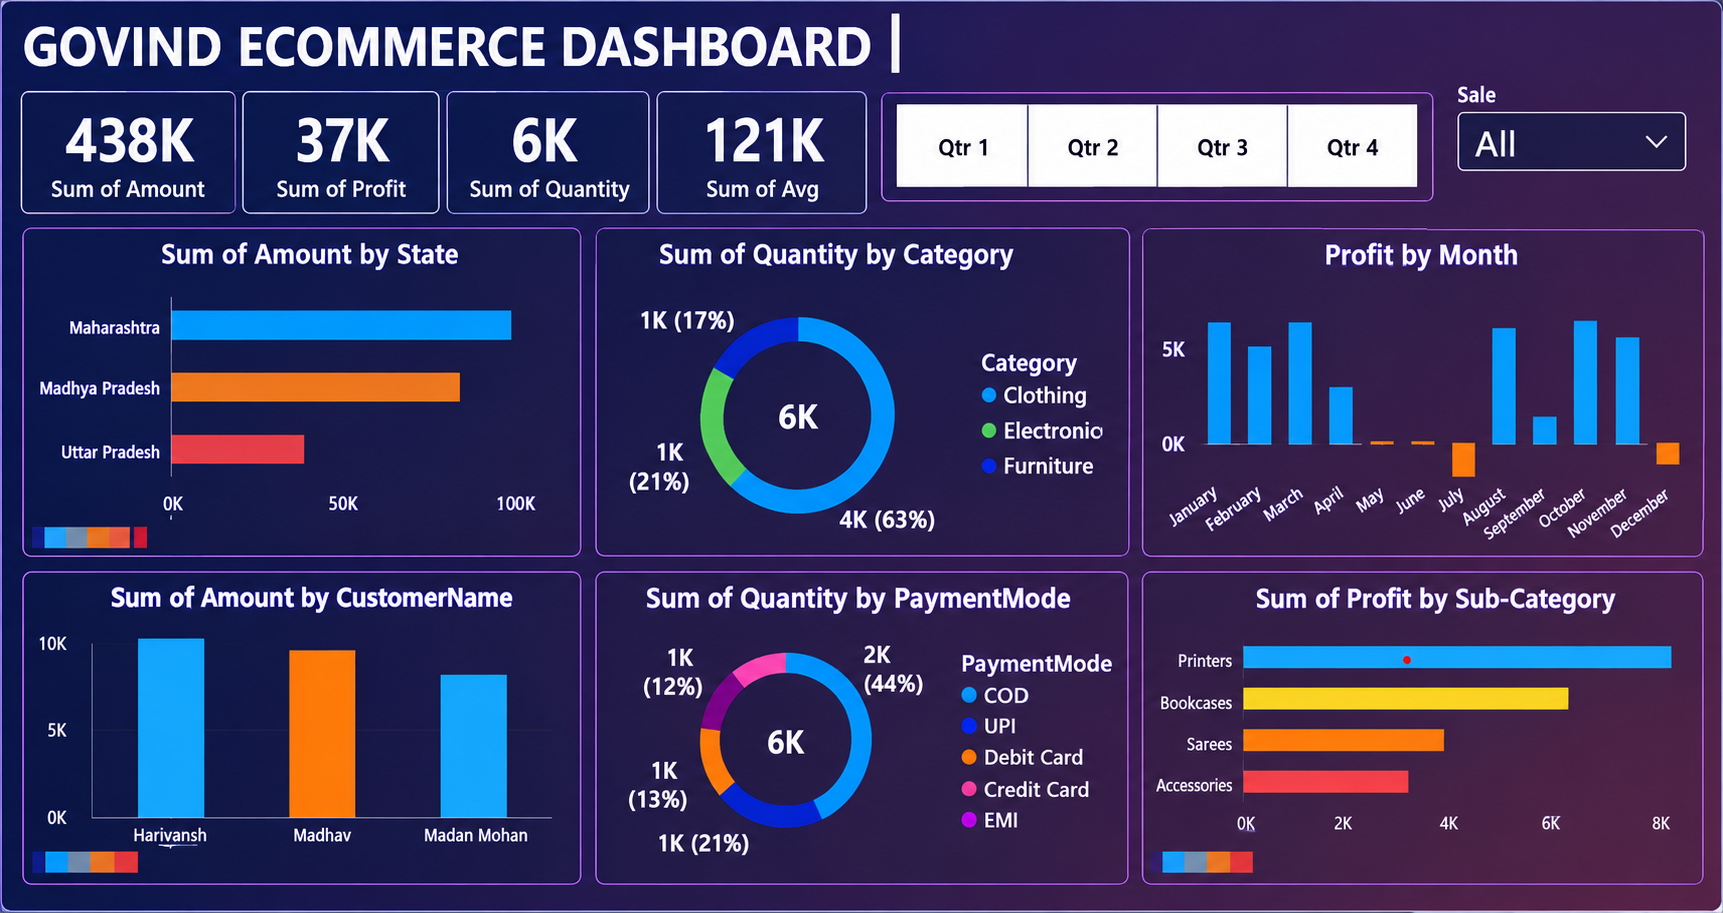

Layout of this report page (visuals, bound fields, positions):
{"tool":"powerbi","page":{"name":"Page 1","canvas":[1920,1080],"ordinal":0},"visuals":[{"type":"clusteredColumnChart","title":"Profit by Month","fields":{"Category":["order.Order Date.Variation.Date Hierarchy.Month"],"Y":["Sum(Details.Profit)"]},"box":[1270,280,640,380],"z":0},{"type":"barChart","fields":{"Category":["Details.Sub-Category"],"Y":["Sum(Details.Profit)"]},"box":[1270,680,640,337.8],"z":1000},{"type":"donutChart","fields":{"Category":["Details.Category"],"Y":["Sum(Details.Quantity)"]},"box":[657.5,280,602.2,380],"z":2000},{"type":"donutChart","fields":{"Category":["Details.PaymentMode","Details.Category"],"Y":["Sum(Details.Quantity)"]},"box":[655,680,602.2,337.8],"z":3000},{"type":"cardVisual","fields":{"Data":["Sum(Details.Amount)"]},"box":[27.5,132.5,222.5,142.5],"z":4000},{"type":"cardVisual","fields":{"Data":["Sum(Details.Profit)"]},"box":[250,132.5,222.5,142.5],"z":5000},{"type":"cardVisual","fields":{"Data":["Sum(Details.Quantity)"]},"box":[472.5,132.5,232.5,142.5],"z":6000},{"type":"cardVisual","fields":{"Data":["Sum(Details.Avg)"]},"box":[710,132.5,250,142.5],"z":7000},{"type":"textbox","box":[27.5,45,932.5,70],"z":8000},{"type":"clusteredBarChart","fields":{"Category":["order.State"],"Y":["Sum(Details.Amount)"]},"box":[27.5,280,605,380],"z":9000},{"type":"slicer","fields":{"Values":["order.Order Date.Variation.Date Hierarchy.Quarter"]},"box":[977.5,132.5,630,120],"z":10000},{"type":"slicer","fields":{"Values":["order.State"]},"box":[1642.5,132.5,235,120],"z":11000},{"type":"clusteredColumnChart","fields":{"Category":["order.CustomerName"],"Y":["Sum(Details.Amount)"]},"box":[28,680,605,338],"z":12000}]}

Visuals, with their boxes on the page's 1920x1080 design canvas (x1, y1, x2, y2). These are canvas units, not pixel positions in the 1723x913 screenshot, which may show the page scaled, cropped or inside an application window:
"Profit by Month" clusteredColumnChart: {"x1": 1270, "y1": 280, "x2": 1910, "y2": 660}
barChart - Details.Sub-Category x Sum(Details.Profit): {"x1": 1270, "y1": 680, "x2": 1910, "y2": 1018}
donutChart - Details.Category x Sum(Details.Quantity): {"x1": 658, "y1": 280, "x2": 1260, "y2": 660}
donutChart - Details.PaymentMode x Details.Category: {"x1": 655, "y1": 680, "x2": 1257, "y2": 1018}
cardVisual - Sum(Details.Amount): {"x1": 28, "y1": 132, "x2": 250, "y2": 275}
cardVisual - Sum(Details.Profit): {"x1": 250, "y1": 132, "x2": 472, "y2": 275}
cardVisual - Sum(Details.Quantity): {"x1": 472, "y1": 132, "x2": 705, "y2": 275}
cardVisual - Sum(Details.Avg): {"x1": 710, "y1": 132, "x2": 960, "y2": 275}
textbox: {"x1": 28, "y1": 45, "x2": 960, "y2": 115}
clusteredBarChart - order.State x Sum(Details.Amount): {"x1": 28, "y1": 280, "x2": 632, "y2": 660}
slicer - order.Order Date.Variation.Date Hierarchy.Quarter: {"x1": 978, "y1": 132, "x2": 1608, "y2": 252}
slicer - order.State: {"x1": 1642, "y1": 132, "x2": 1878, "y2": 252}
clusteredColumnChart - order.CustomerName x Sum(Details.Amount): {"x1": 28, "y1": 680, "x2": 633, "y2": 1018}
